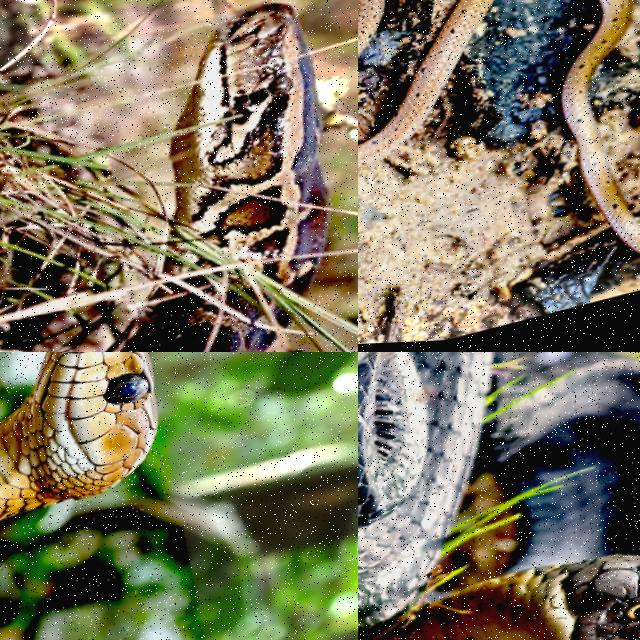Calliophis maculiceps: (560, 0, 639, 252)
Naja siamensis: (0, 352, 156, 519)
Ophiophagus hannah: (378, 352, 639, 639)
Python bivittatus: (171, 3, 327, 292)
snake: (378, 352, 639, 639), (171, 3, 327, 292), (0, 352, 156, 519), (560, 0, 639, 252)
